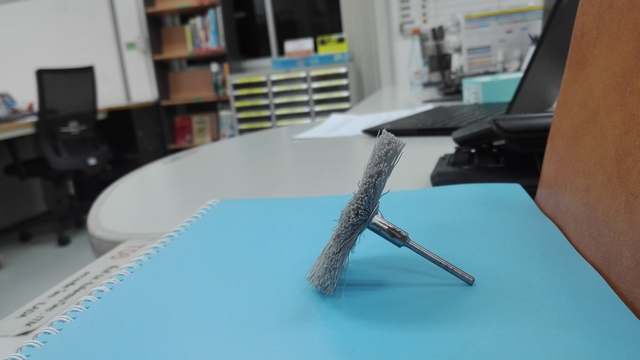TOOL: (227, 102, 482, 360), (289, 126, 495, 322), (351, 112, 477, 311), (319, 117, 483, 265), (295, 142, 421, 313)
